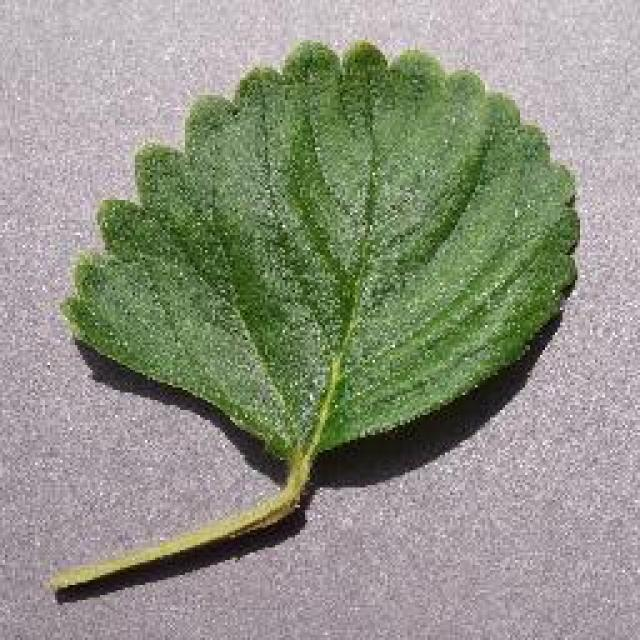Strawberry___healthy: (33, 15, 595, 623)
